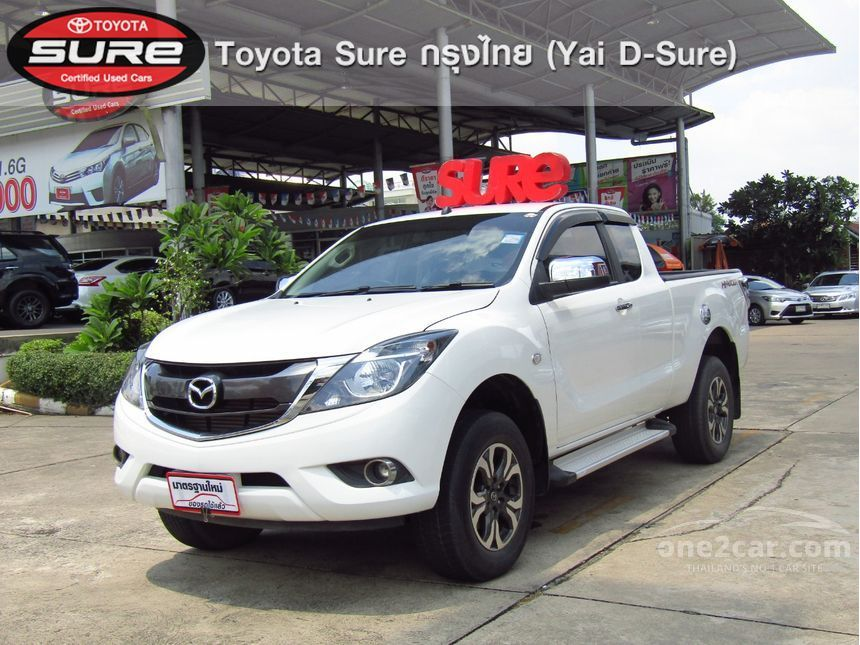pickup: (111, 200, 757, 594)
